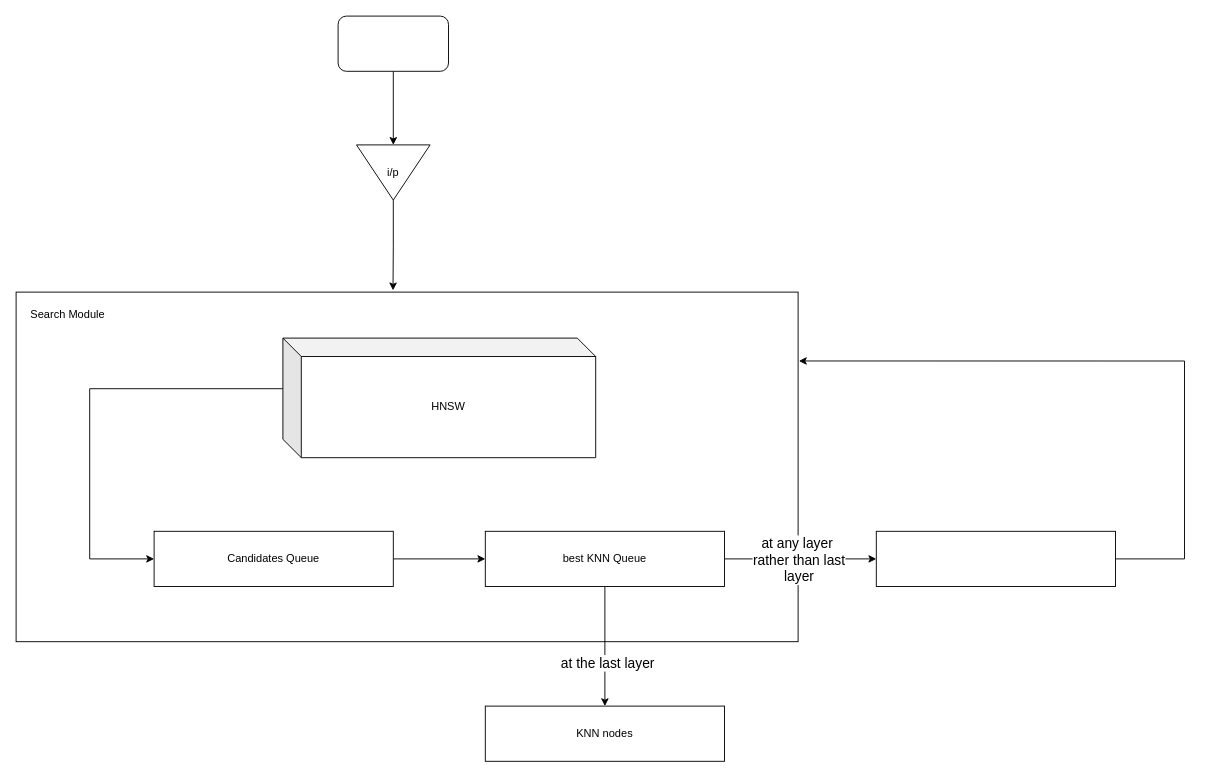
This 1208x777 diagram has some shape labels left out. Here are the shapes that lost their labels. From the top down, the box of each, then its label:
(337, 15, 448, 71): Search Query
(875, 530, 1116, 586): Next Layer
